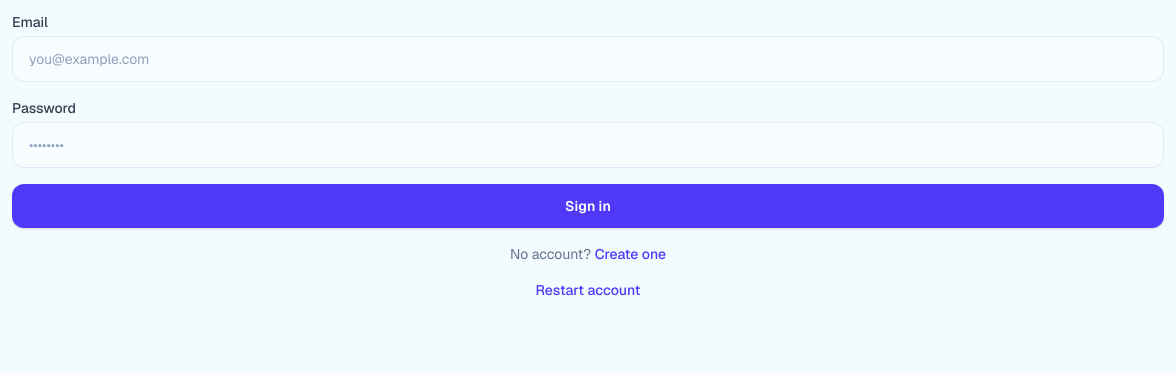
it: LoginForm › does not redirect when the vault fails to unlock
Type "user@example.com" into the field labelled "Email".
click(588, 59); type("user@example.com")  # box [12, 36, 1164, 82]
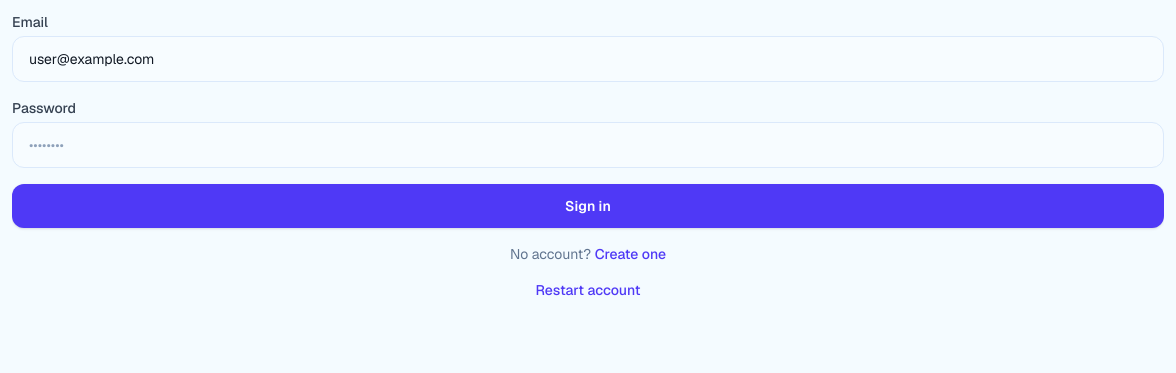
Type "password123" into the password field labelled "Password".
click(588, 145); type("password123")  # box [12, 122, 1164, 168]
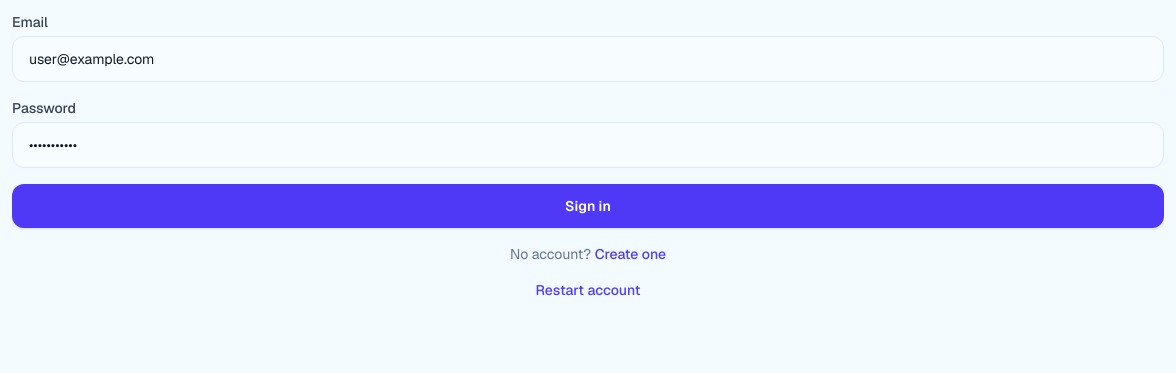
Click the button "Sign in".
click(588, 206)  # box [12, 184, 1164, 228]
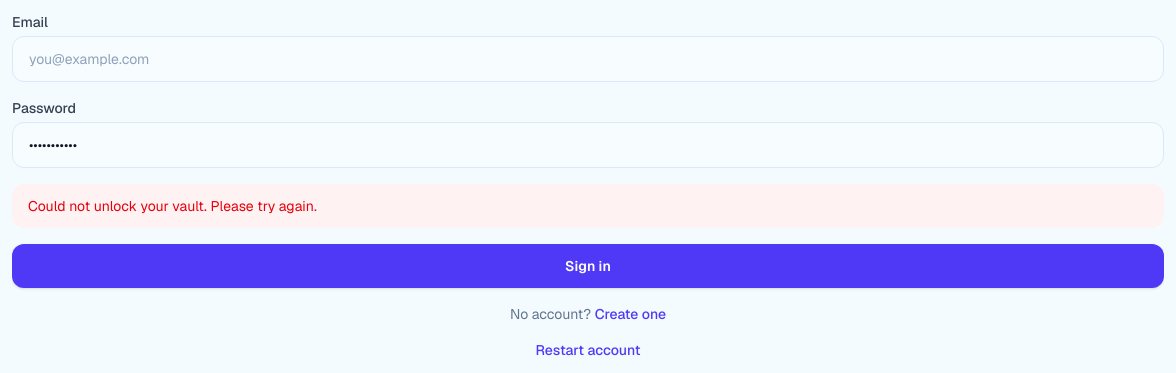
Expected: the text "Could not unlock your vault. Please try again." is shown, [12, 184, 1164, 228]
